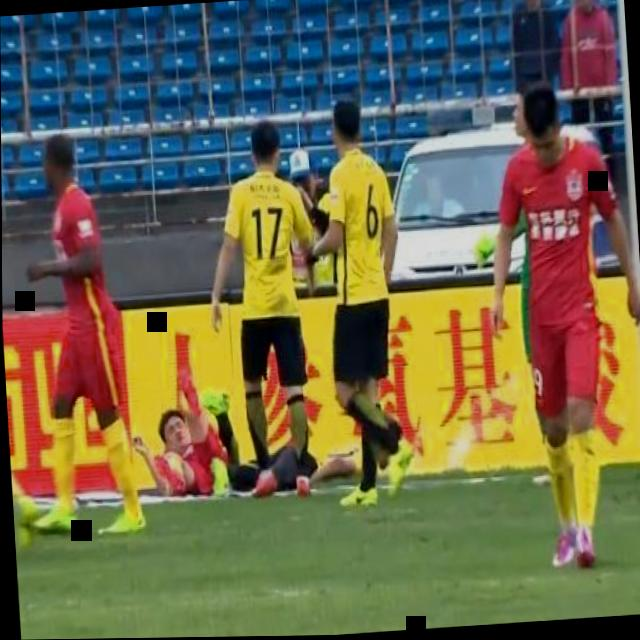Fall-Detected: (122, 389, 236, 506)
